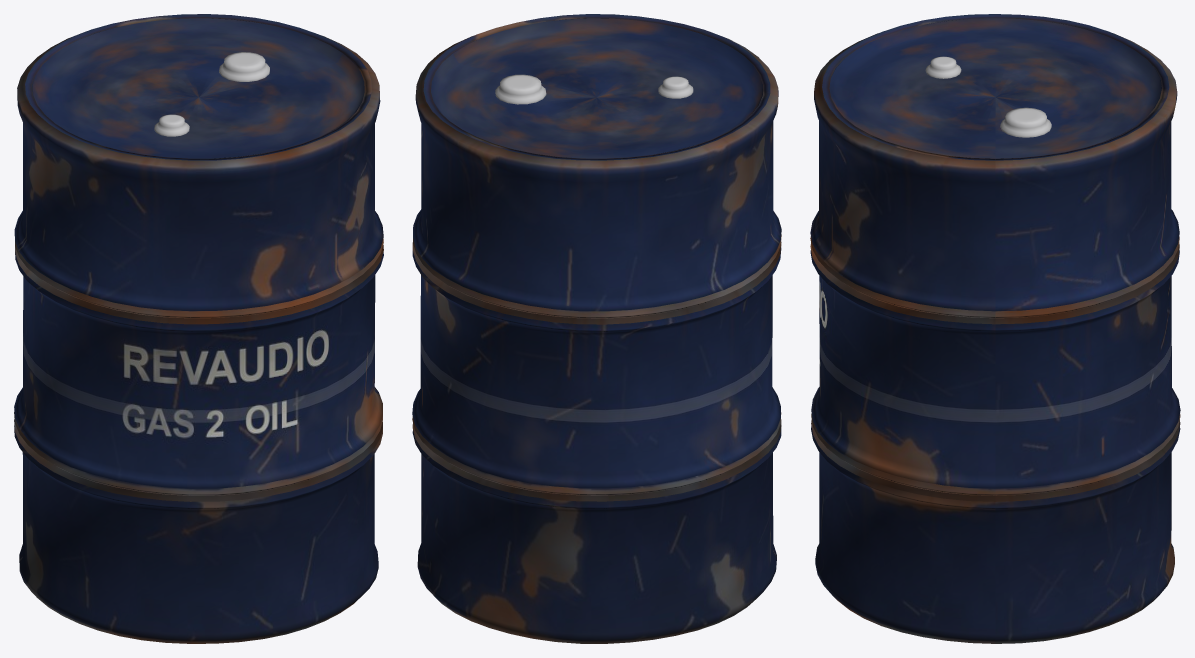
File: mess-drum.glb
3 renders of one model, left to right at view 1: azimuth 30°, elevation 25°; view 2: azimuth 150°, elevation 25°; view 3: azimuth 270°, elevation 25°, orthographic.
Visible parts, largest first — view 1: mess-drum; view 2: mess-drum; view 3: mess-drum.
Boxes of the visible parts, left/top/right/bottom form: mess-drum: left=14, top=14, right=383, bottom=643; mess-drum: left=412, top=14, right=781, bottom=643; mess-drum: left=810, top=14, right=1180, bottom=643.
Size of the model in its own units: 0.6052 by 0.883 by 0.6054.
2 materials, 1 textured.
